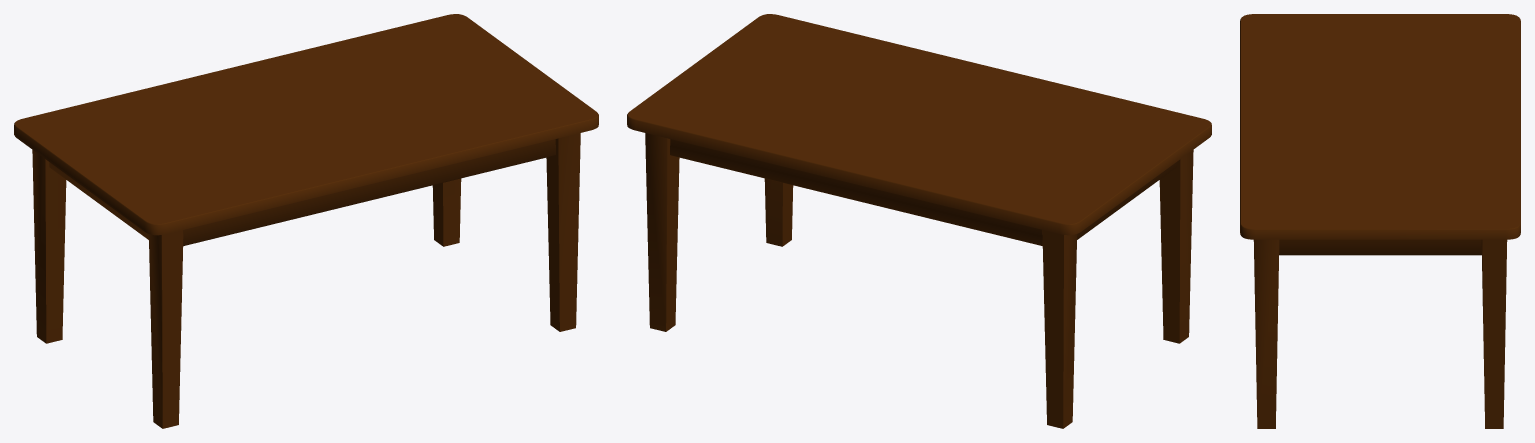
Rendered from Project Name.gltf.
3 views of the same model, side by side, from view 1: azimuth 30°, elevation 25°; view 2: azimuth 150°, elevation 25°; view 3: azimuth 270°, elevation 25° (orthographic). The views are drawn at different scales.
Parts seen in each view (by area): view 1: Table; view 2: Table; view 3: Table.
Boxes of the visible parts, bbox=[...] form: Table: bbox=[14, 14, 598, 428]; Table: bbox=[627, 14, 1211, 428]; Table: bbox=[1240, 14, 1520, 428].
Size of the model in its own units: 0.182 by 0.0822 by 0.1001.
